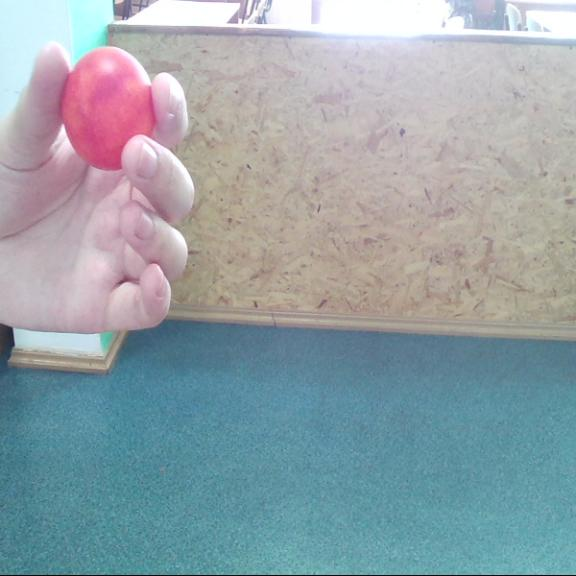ball: (61, 45, 165, 168)
